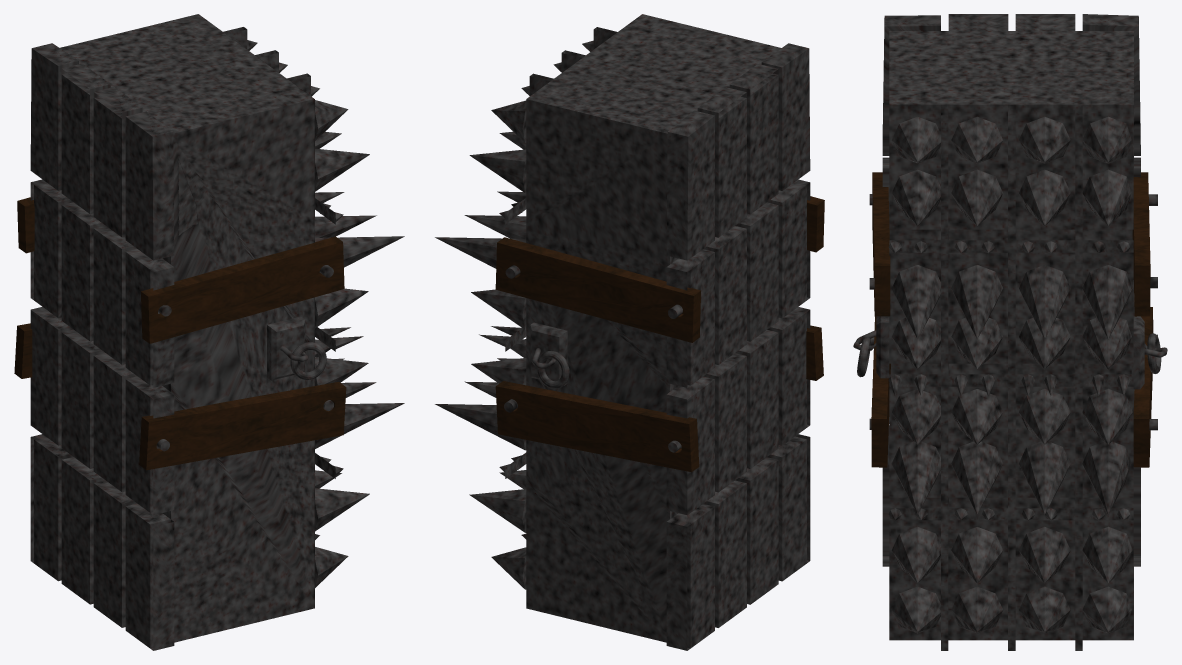
File: OFFICAL TRAP DOOR 17.fbx
3 views of the same model, side by side, from view 1: azimuth 30°, elevation 25°; view 2: azimuth 150°, elevation 25°; view 3: azimuth 270°, elevation 25° (orthographic). The views are drawn at different scales.
Parts seen in each view (by area): view 1: lowploy 2.013, lowploy 2.005, lowploy 2.001, lowploy 2.006, lowploy 2.007, lowploy 2.004, lowploy 2.014, lowploy 2.002; view 2: lowploy 2.013, lowploy 2.005, lowploy 2.001, lowploy 2.006, lowploy 2.007, lowploy 2.004, lowploy 2.014, lowploy 2.003; view 3: lowploy 2.001, lowploy 2.004, lowploy 2.013, lowploy 2.005, lowploy 2.014, lowploy 2.007, lowploy 2.006.
Boxes of the visible parts, box(x1,y1,x2,y2) form: lowploy 2.013: box(60, 14, 314, 642); lowploy 2.005: box(34, 54, 170, 648); lowploy 2.001: box(14, 40, 404, 587); lowploy 2.006: box(34, 55, 170, 646); lowploy 2.007: box(30, 43, 174, 650); lowploy 2.004: box(223, 27, 335, 607); lowploy 2.014: box(30, 48, 173, 522); lowploy 2.002: box(290, 342, 326, 379); lowploy 2.013: box(526, 14, 781, 642); lowploy 2.005: box(670, 54, 806, 648); lowploy 2.001: box(435, 40, 824, 604); lowploy 2.006: box(670, 55, 806, 644); lowploy 2.007: box(666, 43, 810, 650); lowploy 2.004: box(505, 27, 617, 478); lowploy 2.014: box(687, 48, 810, 387); lowploy 2.003: box(537, 351, 569, 388); lowploy 2.001: box(853, 116, 1167, 633); lowploy 2.004: box(889, 104, 1133, 650); lowploy 2.013: box(889, 31, 1133, 639); lowploy 2.005: box(889, 24, 1133, 566); lowploy 2.014: box(882, 24, 1140, 555); lowploy 2.007: box(882, 14, 1140, 566); lowploy 2.006: box(889, 104, 1133, 563).
Size of the model in its own units: 293 by 516 by 271.
